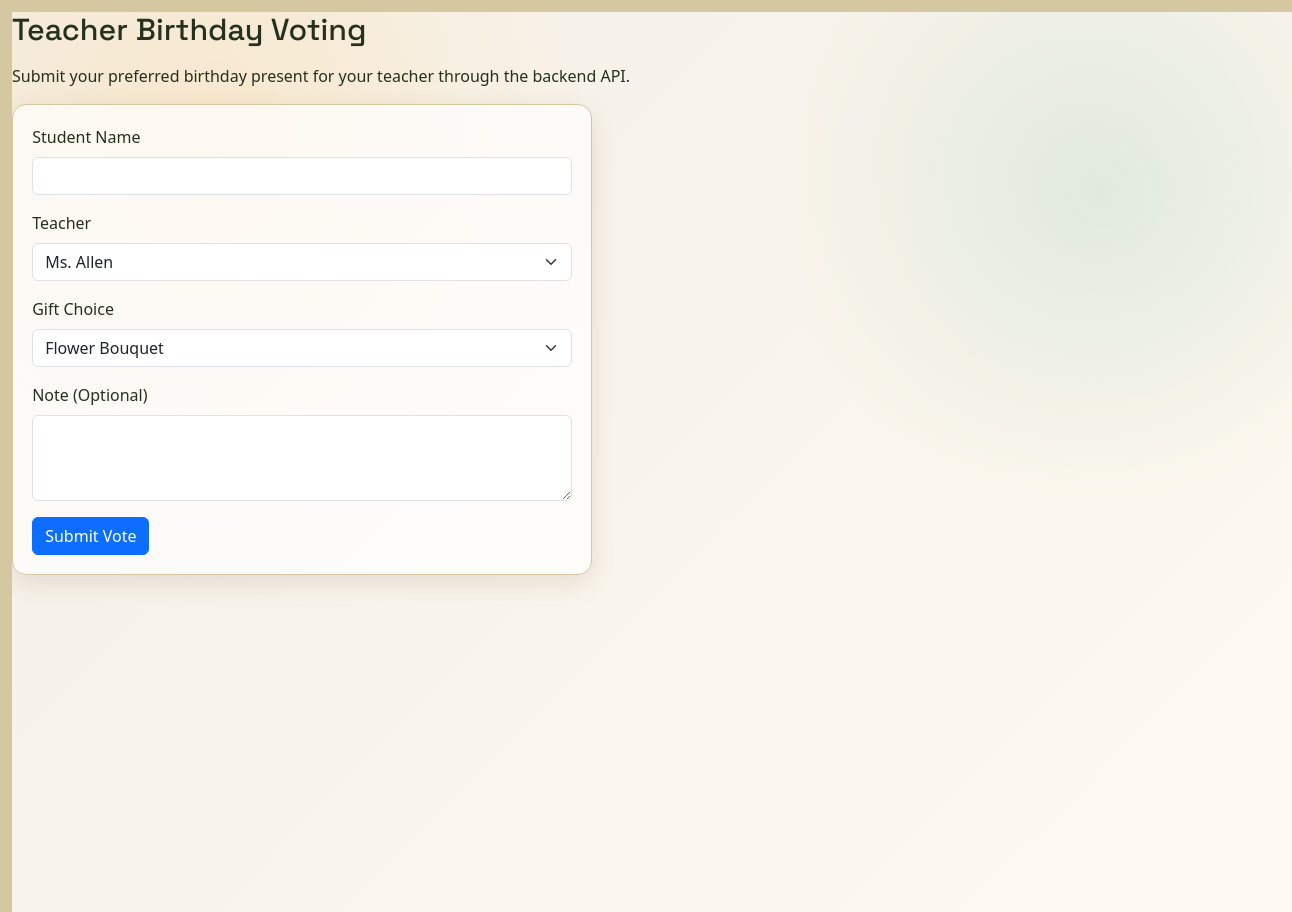
Test: frontend API callouts and button clicks › shows error callout when voting API fails
The image size is (1292, 912).
Note: type Taylor into Student Name element
Type "Taylor" into the field labelled "Student Name" at (302, 176), box x1=32 y1=157 x2=572 y2=195
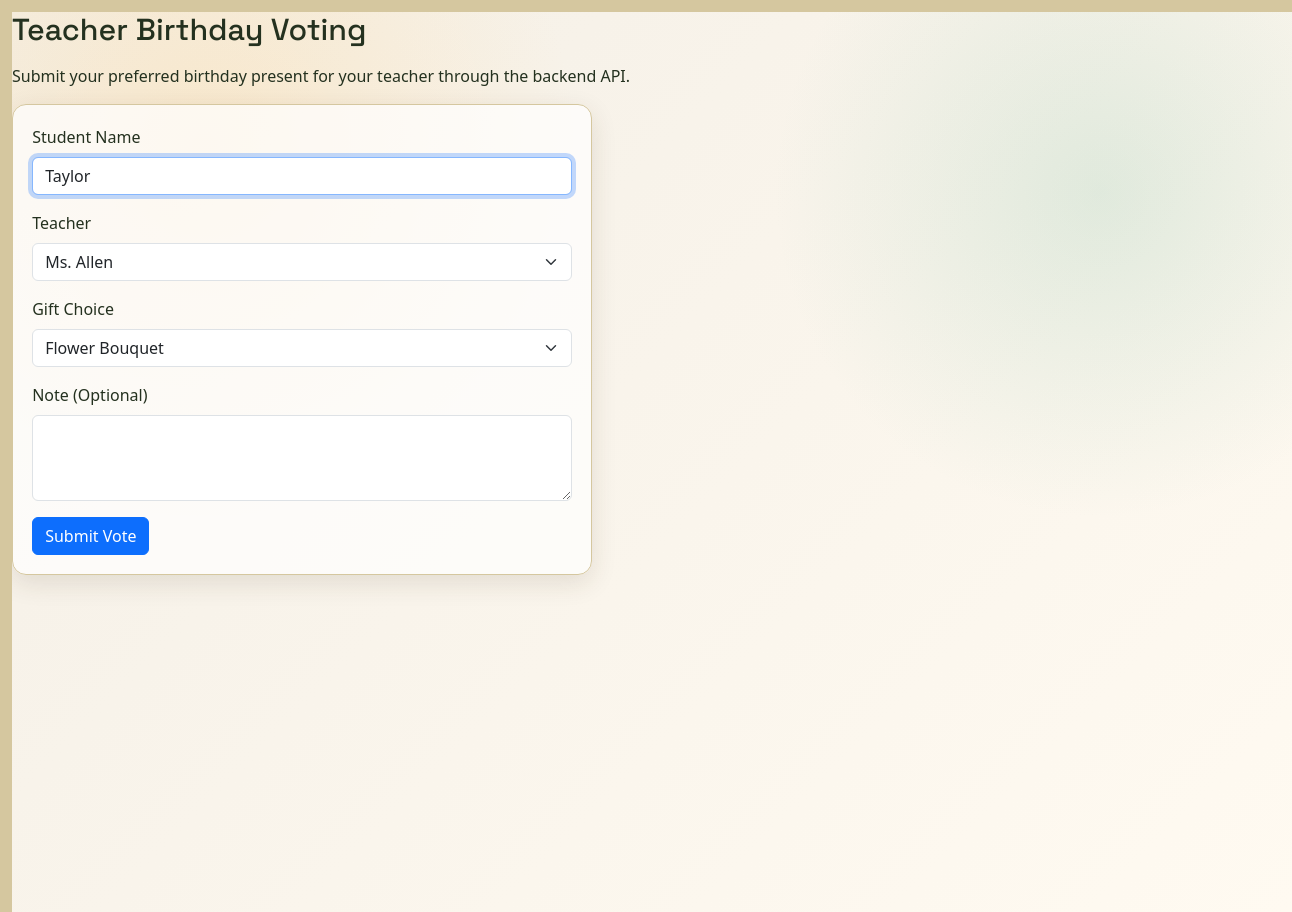
Note: click Submit Vote button
Click the button "Submit Vote" at (91, 536), box x1=32 y1=517 x2=150 y2=555
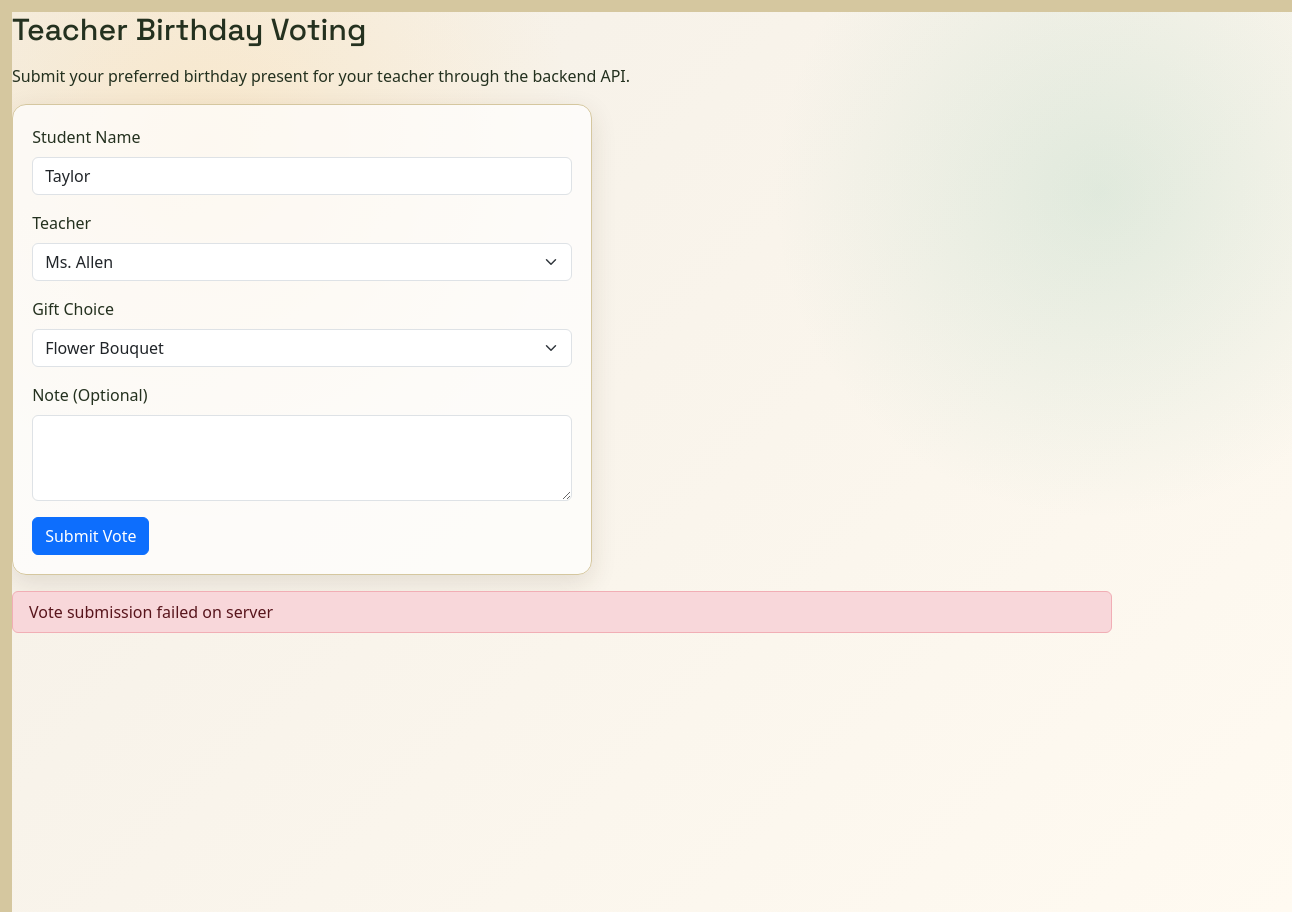
Check: the text "Vote submission failed on server" is shown, box x1=12 y1=591 x2=1112 y2=633
